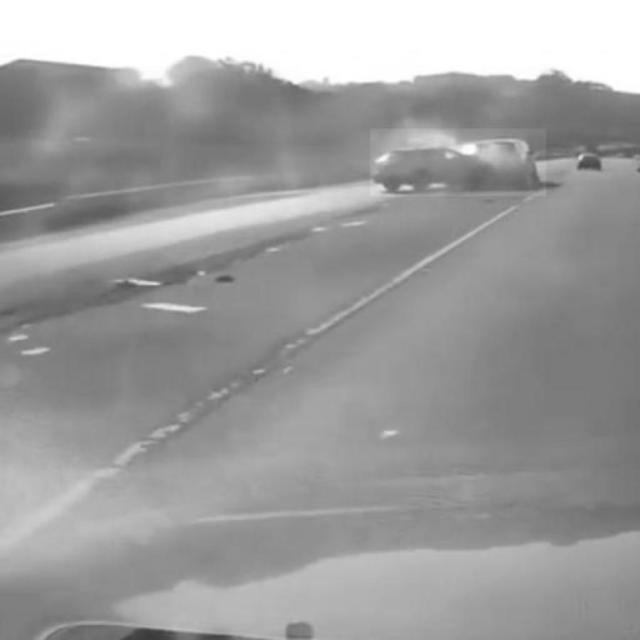accident: (370, 130, 546, 197)
